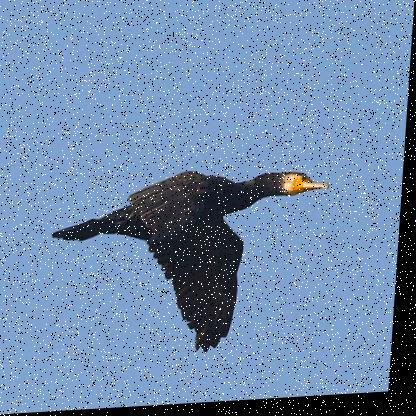Burung: (49, 168, 337, 368)
